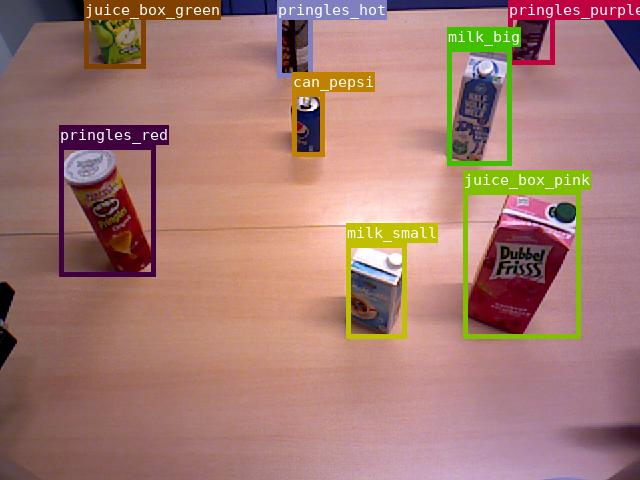can_pepsi: (292, 92, 324, 156)
juice_box_green: (84, 0, 145, 68)
juice_box_pink: (463, 190, 580, 338)
milk_big: (447, 47, 511, 165)
milk_small: (346, 243, 406, 338)
pringles_hot: (277, 0, 312, 77)
pringles_purple: (508, 0, 554, 64)
pringles_red: (59, 145, 155, 276)
